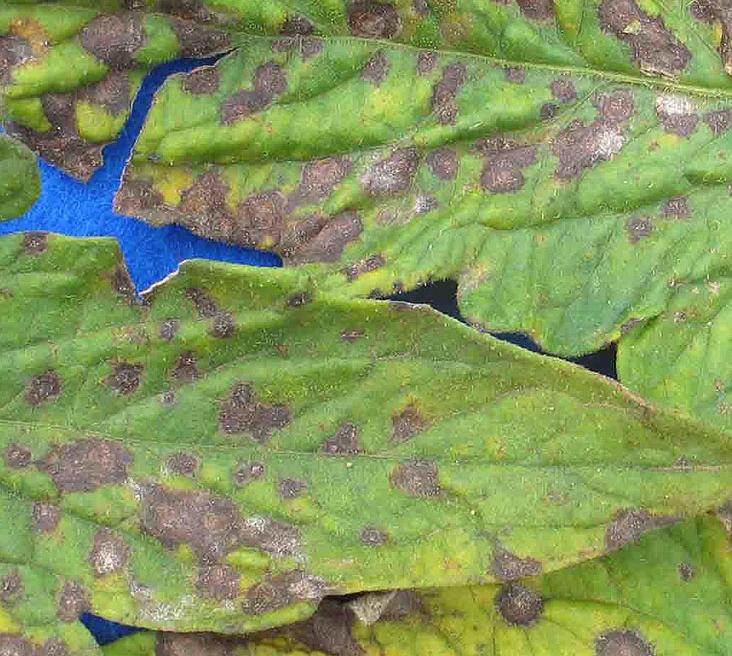Tomato Septoria leaf spot: (0, 100, 732, 656), (0, 0, 732, 446), (0, 408, 732, 656)
